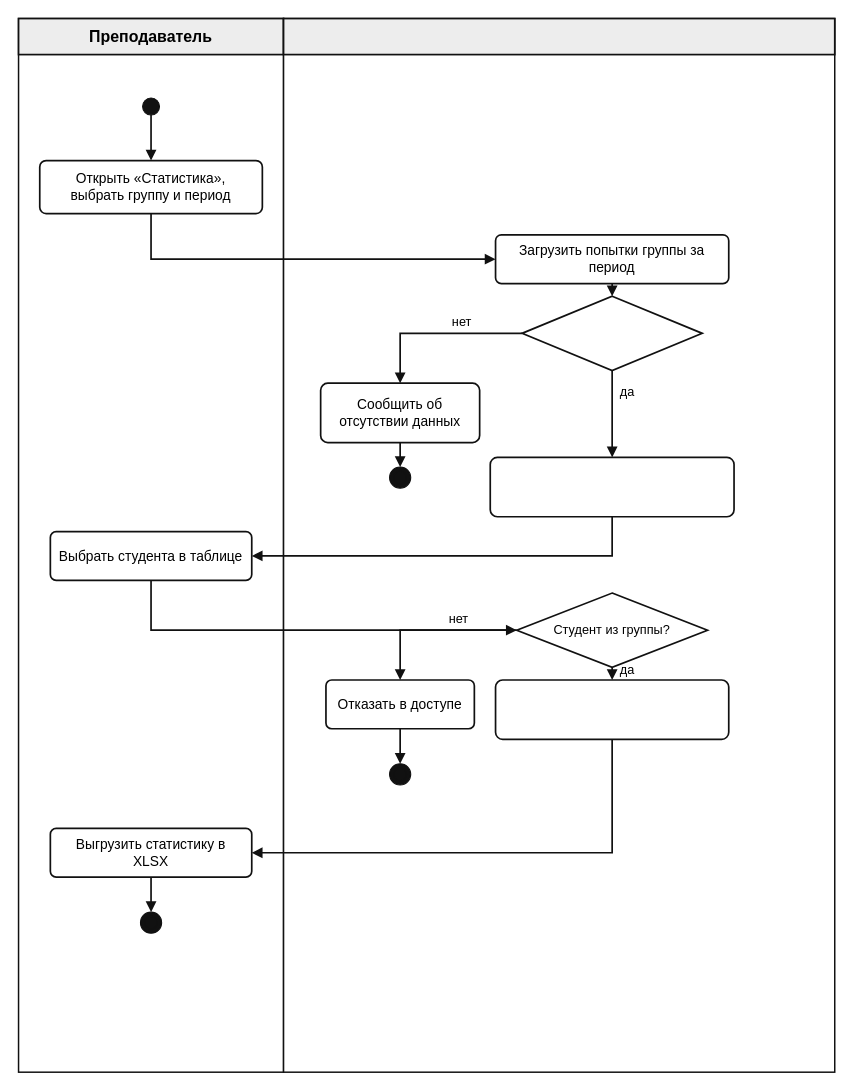
The diagram is 854 pixels wide and 1092 high, and some of its shapes have lost their labels. Each missing label, with the centre of its shape:
"Есть попытки?" belongs at [612,333].
"Показать долю верных решений и таблицу студентов" belongs at [611,486].
"Показать журнал решений студента" belongs at [611,709].
"Система" belongs at [558,36].
